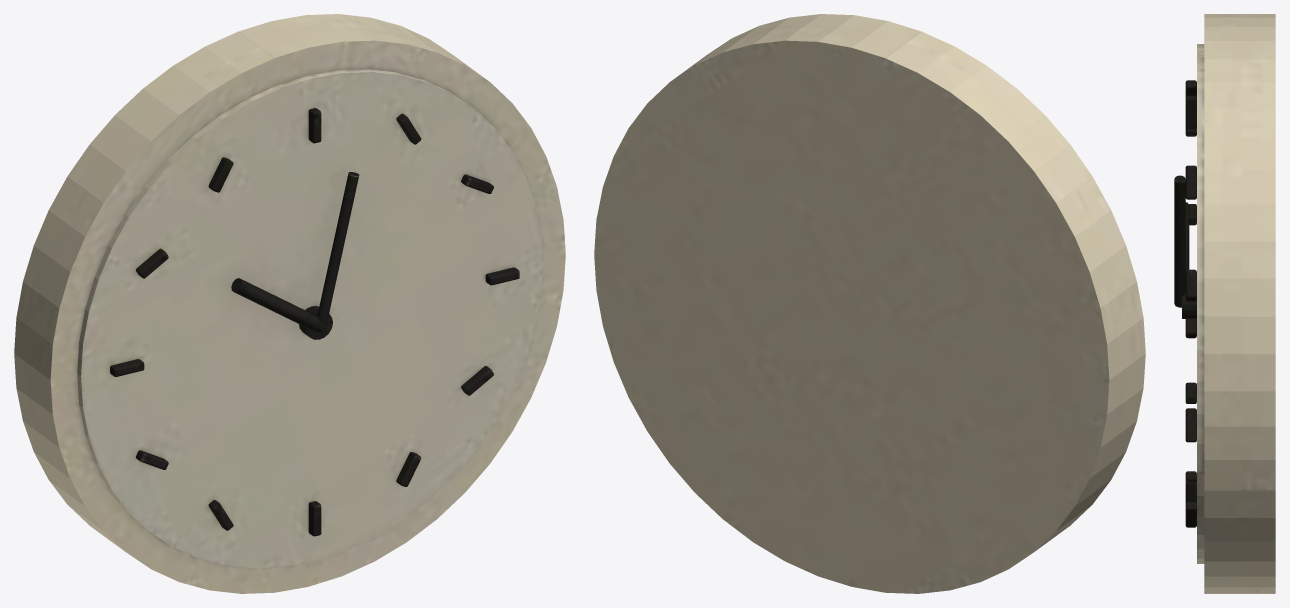
Rendered from dressing-clock.glb.
The picture shows the model from 3 angles, left to right: view 1: azimuth 30°, elevation 25°; view 2: azimuth 150°, elevation 25°; view 3: azimuth 270°, elevation 25°; orthographic projection. The views are drawn at different scales.
Visible parts, largest first — view 1: case-baked; view 2: case-baked; view 3: case-baked.
Boxes of the visible parts, <box> form: case-baked: <box>14,14,565,593</box>; case-baked: <box>594,14,1145,593</box>; case-baked: <box>1174,14,1275,593</box>.
Bounding box in the file's own units: 0.31 × 0.31 × 0.054.
Materials: 1 (1 with a texture image).
